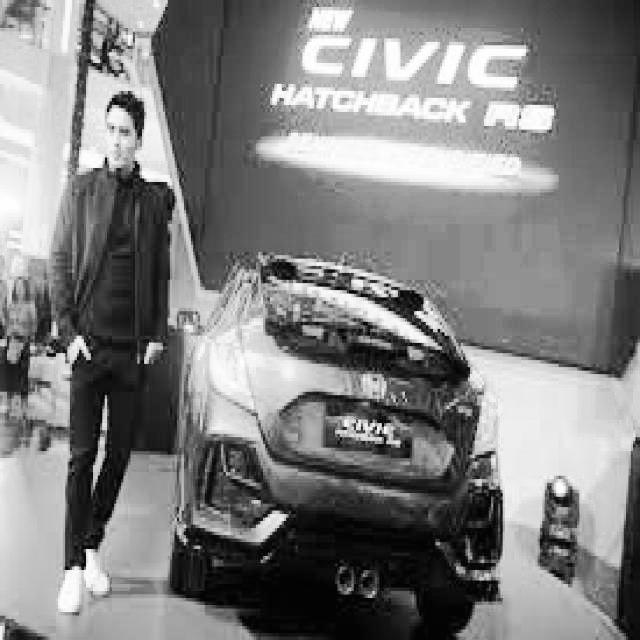Car: (171, 229, 519, 639)
